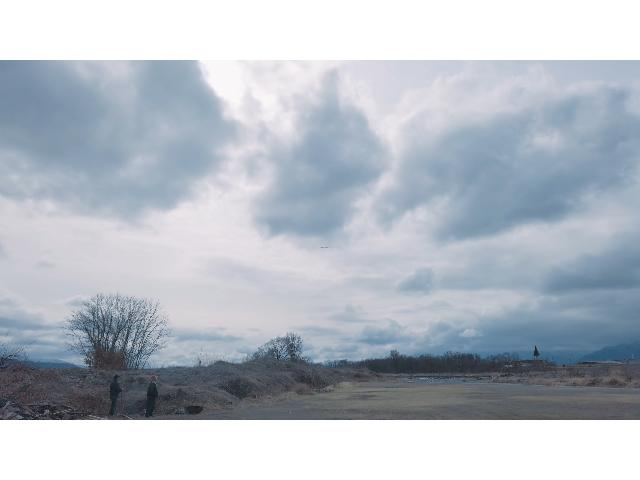Anti-Drone: (318, 244, 332, 253)
